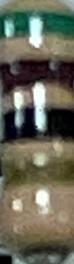Black: (2, 105, 74, 143)
Brown: (1, 56, 74, 96)
Green: (1, 10, 74, 41)
Side-Gold: (2, 156, 73, 196)
